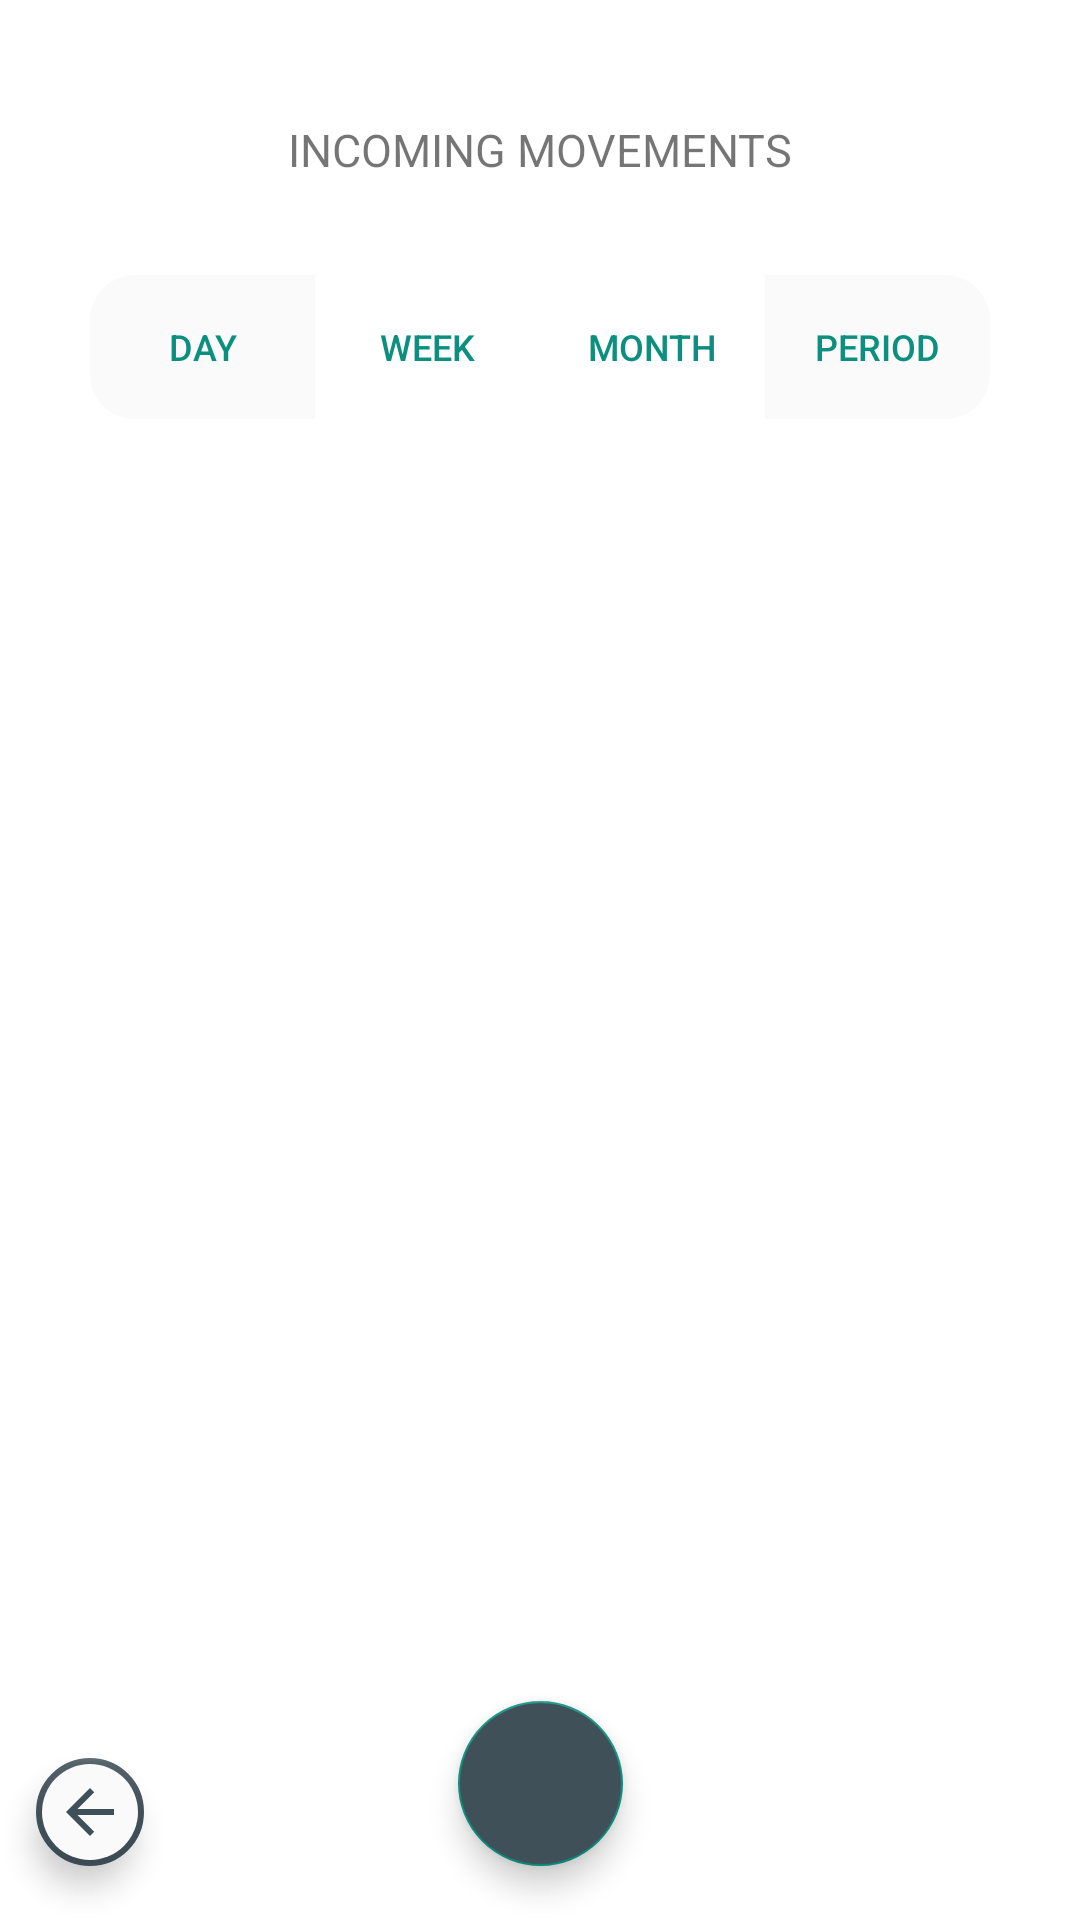

Icon bounding boxes for this 1080×1920 phone screenshot, format (x1, y1, x2, y2):
Go back to previous screen: (36, 1758, 144, 1884)
